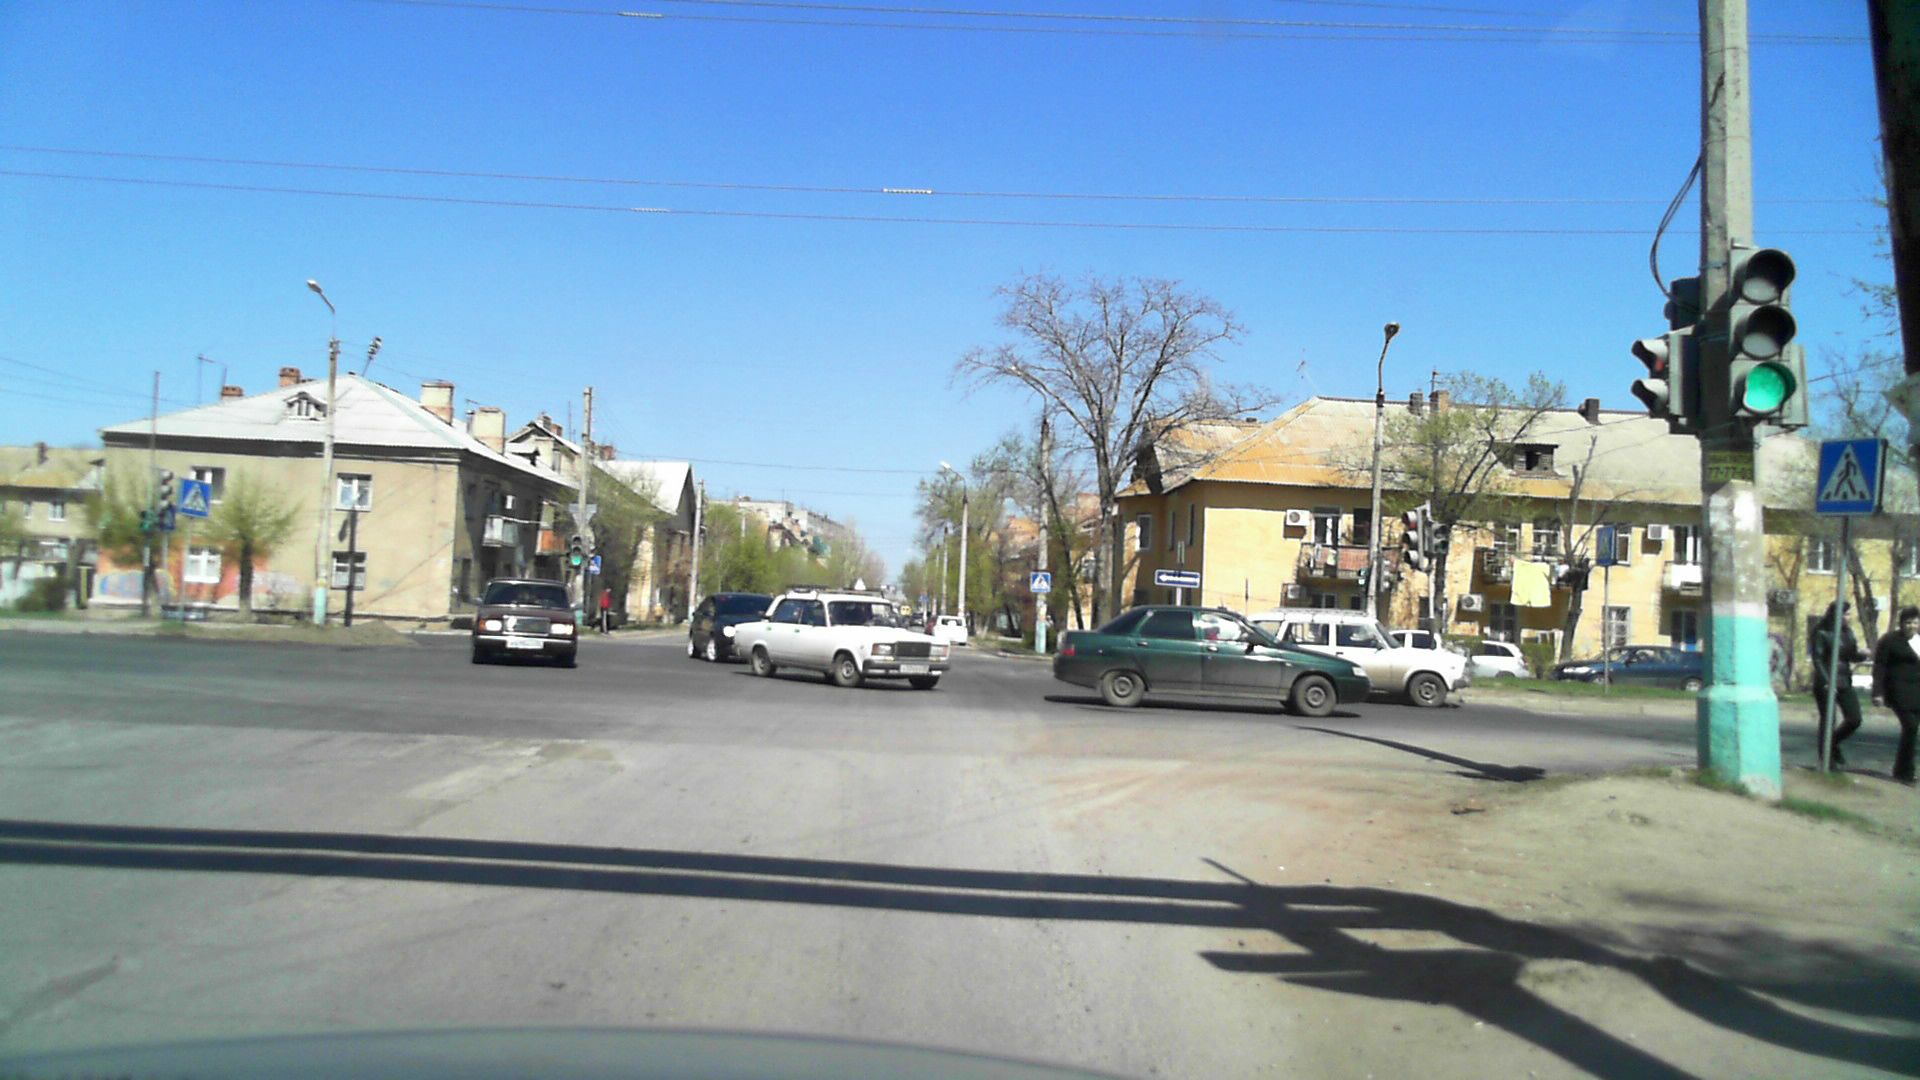One-Way Traffic: (1156, 572, 1200, 585)
